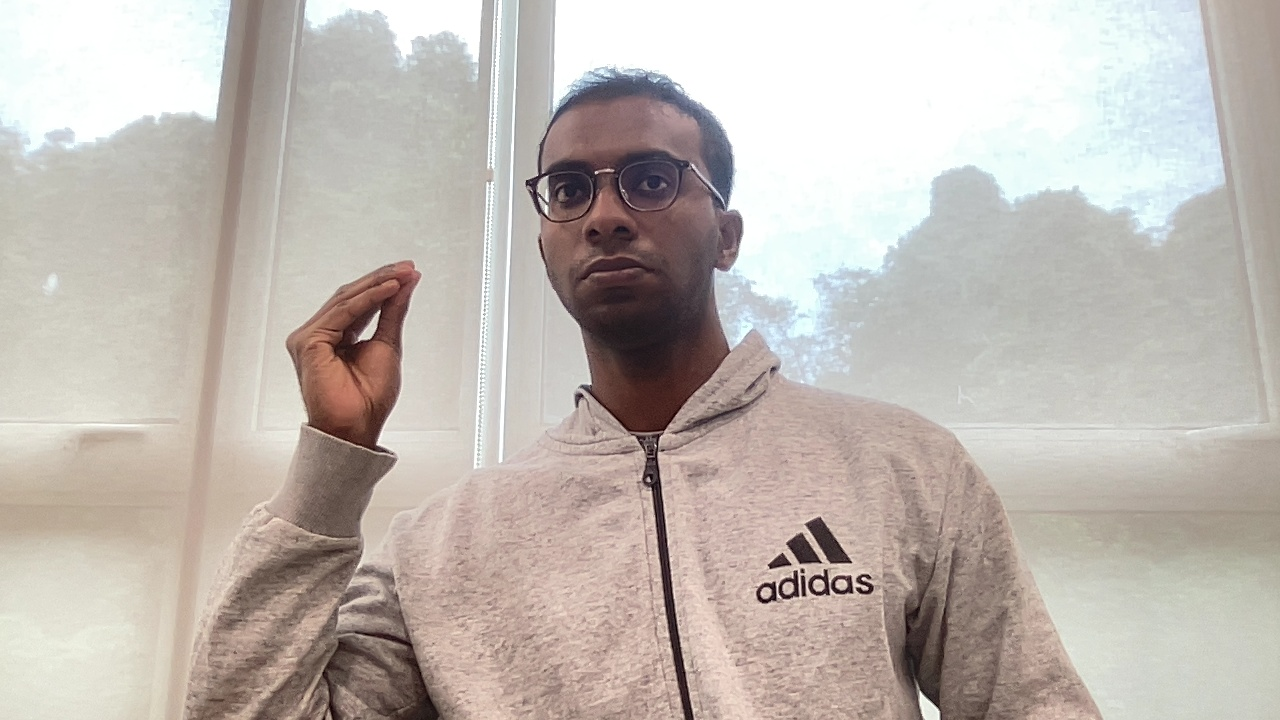eat: (275, 256, 431, 427)
